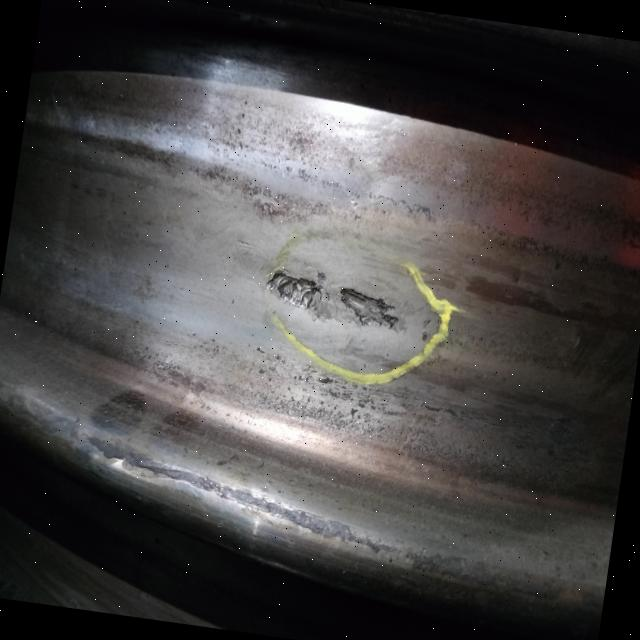Peeling: (265, 262, 412, 335)
